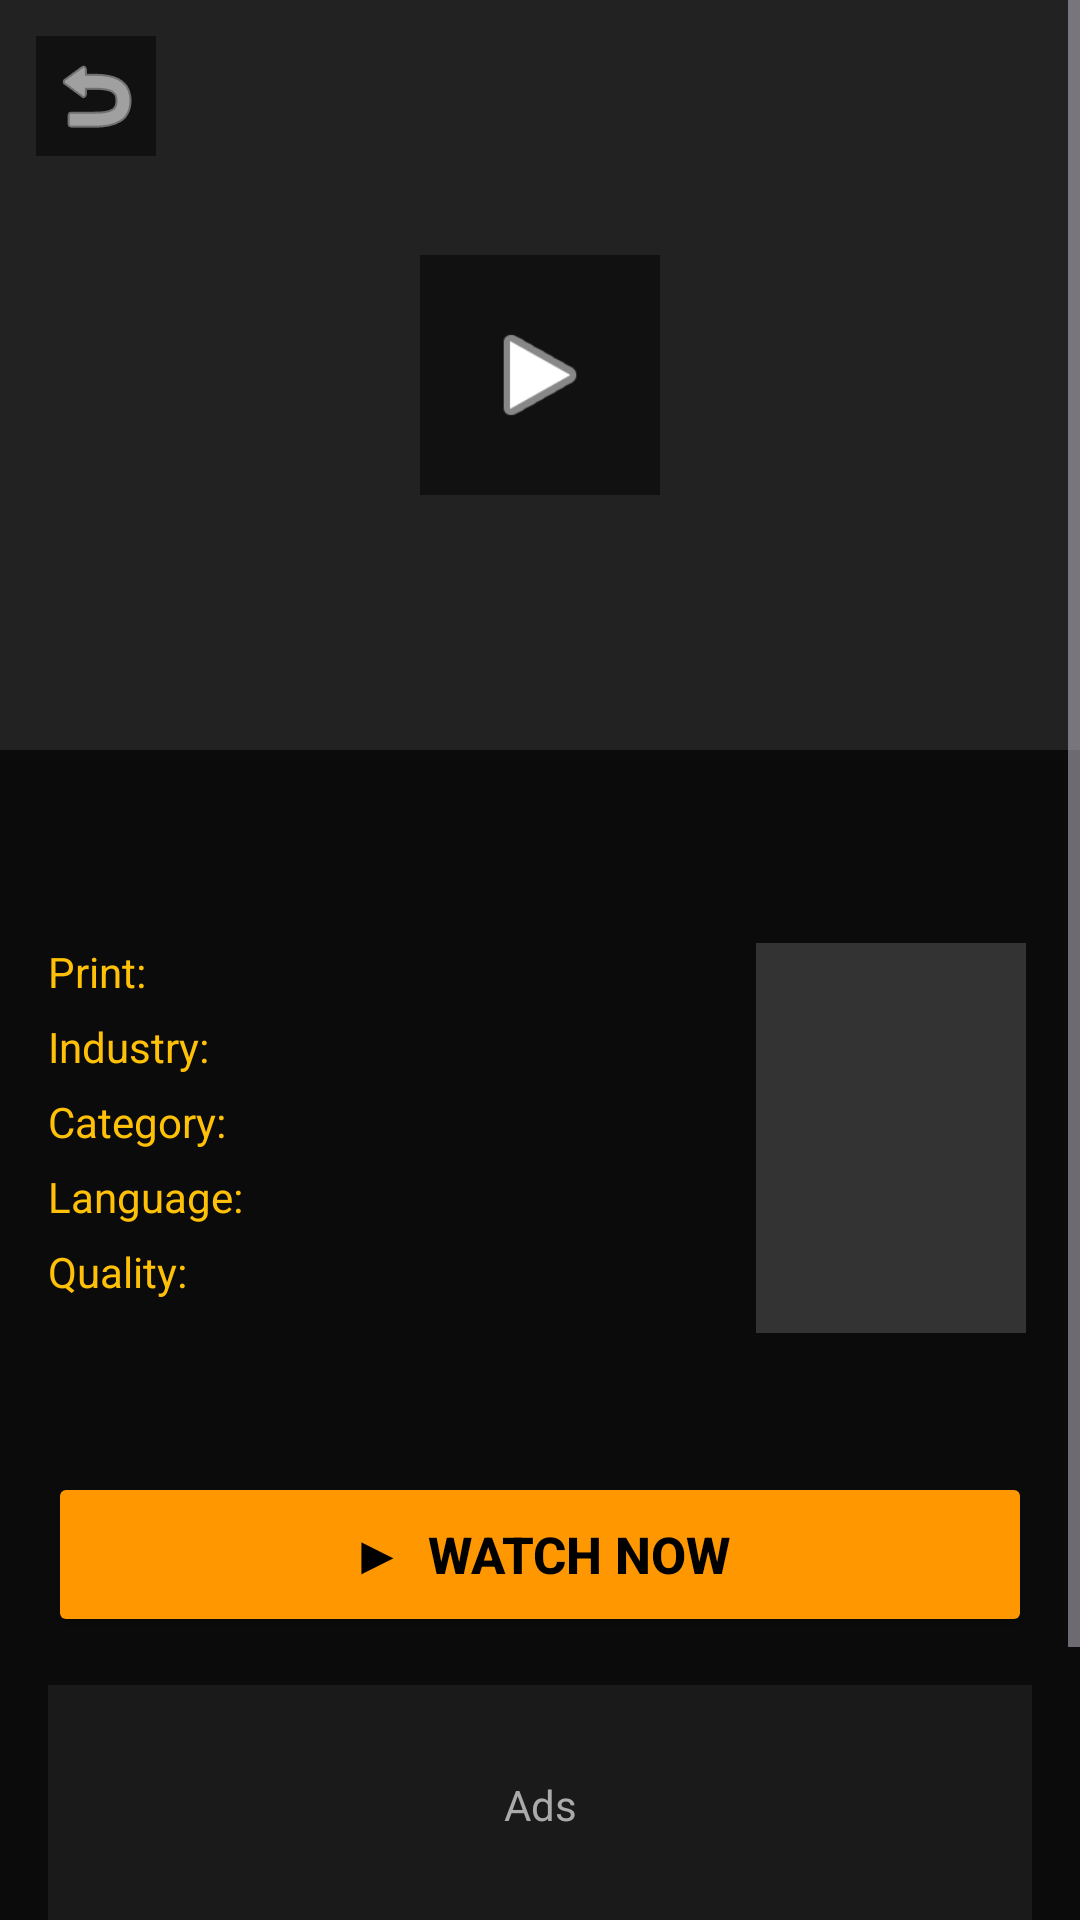

Named icons in this screenshot (1080px×1920px) and their bounding boxes, (x1, y1, x2, y2):
play: (504, 335, 576, 415)
revert: (63, 66, 132, 128)
